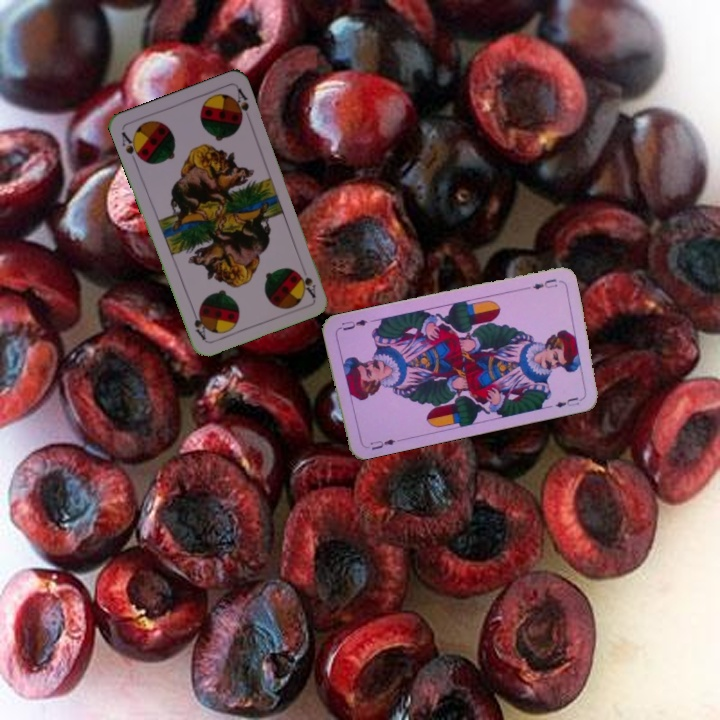EU: (362, 435, 398, 453), (528, 275, 560, 292)
SA: (117, 128, 145, 166), (296, 269, 318, 300)
